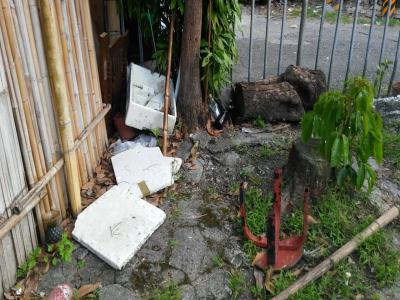styrofoam: (124, 60, 179, 138)
